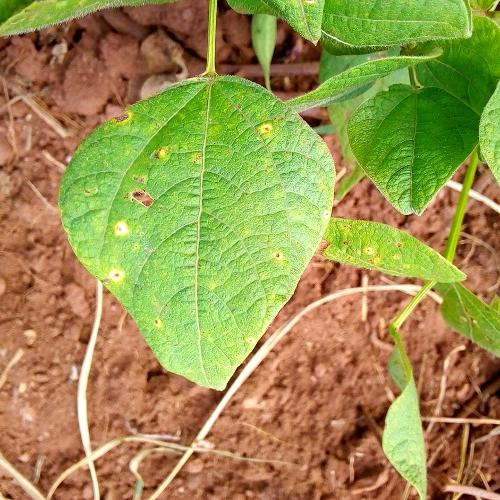embun tepung: (73, 128, 198, 306), (245, 98, 304, 280)
